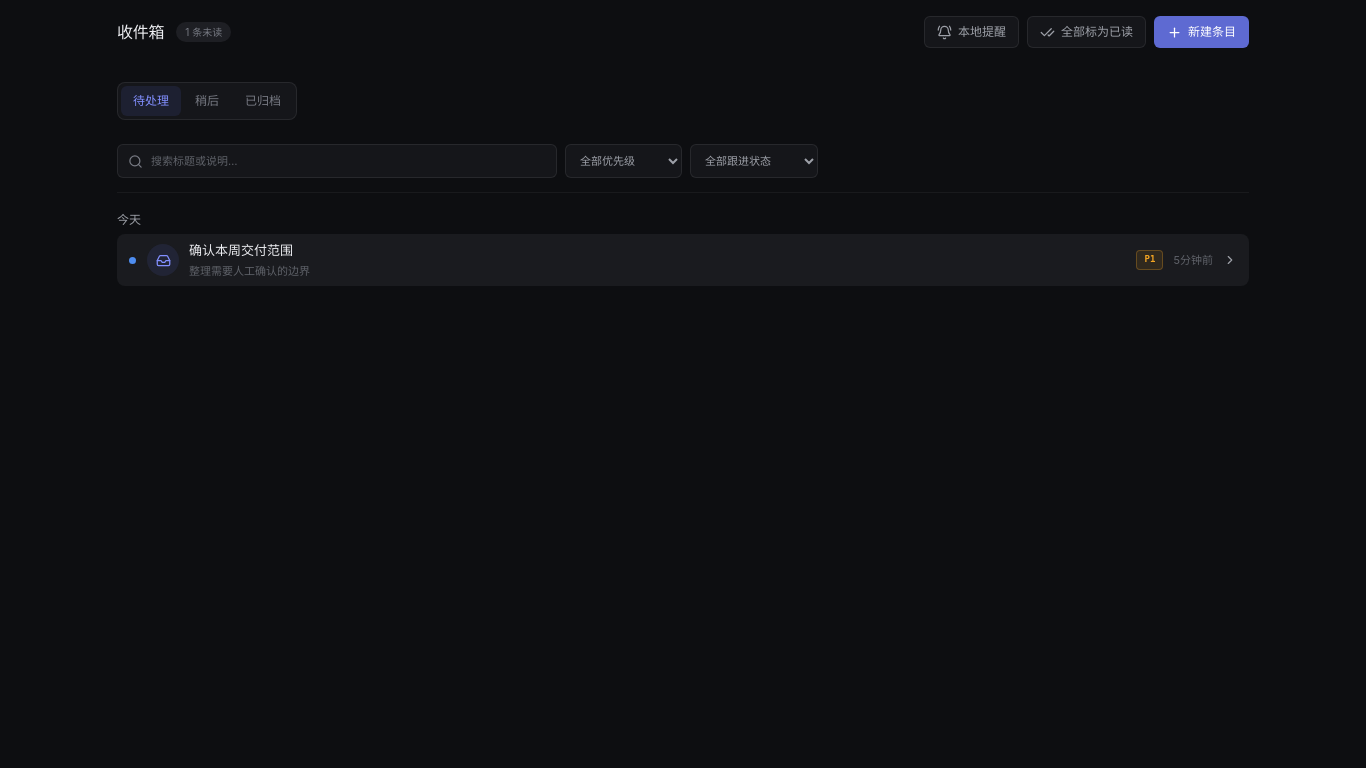
Test: InboxPage › renders the prototype hierarchy with real unread facts and opens details
Expected: the text "1 条未读" is shown, [176,22,231,42]
Expected: the heading "今天" is shown, [117,212,141,227]
What coordinates should you click on to do the following:
click the button with aria-label "查看 确认本周交付范围"
I would click on:
 (163, 260)
Its box is [117,234,1249,286].
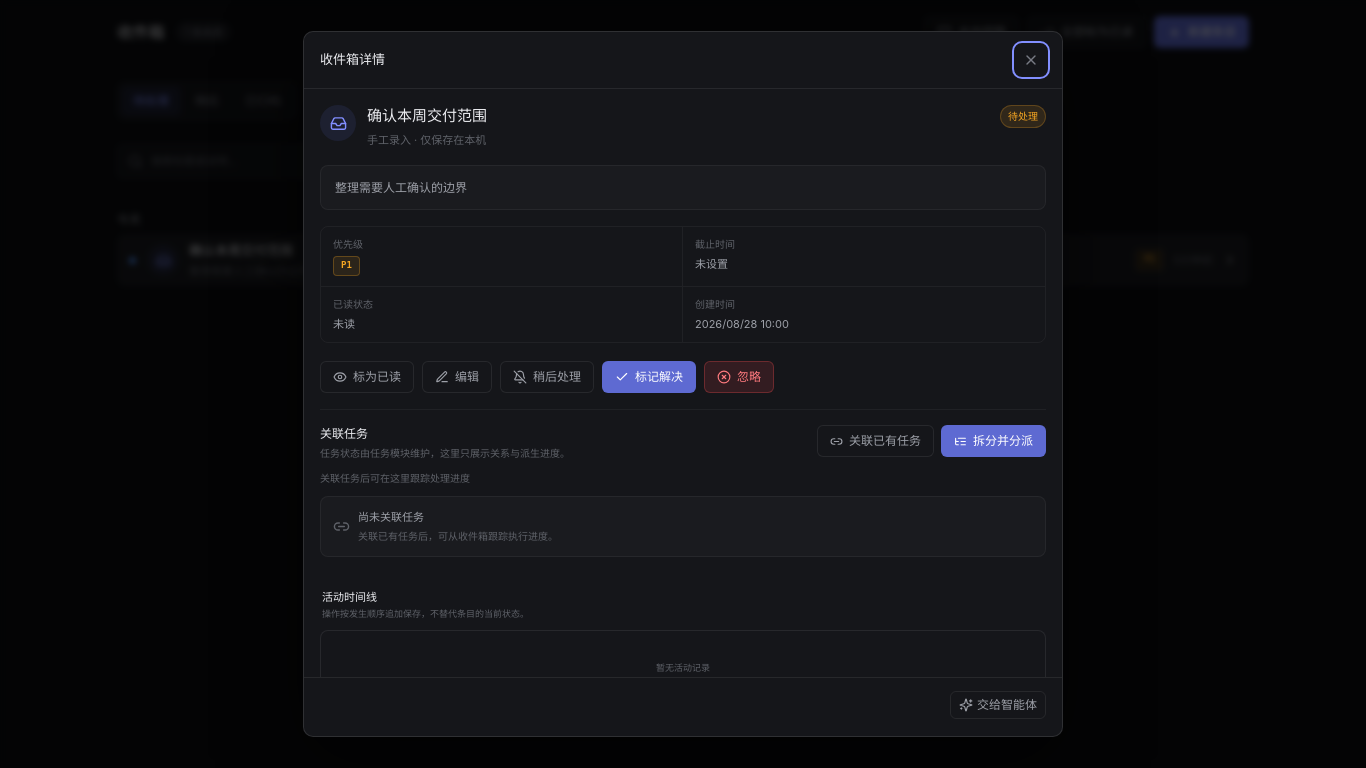
Expected: the text "整理需要人工确认的边界" is shown 2 times, [189,264,310,278]; [320,164,1046,210]
Expected: the dialog "收件箱详情" is shown, [303,31,1063,737]
